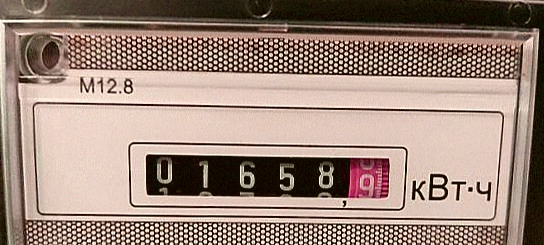0: (153, 153, 175, 185)
1: (197, 157, 211, 189)
5: (277, 160, 297, 192)
6: (237, 158, 258, 189)
8: (316, 158, 336, 191)
9: (356, 171, 375, 197)
screen: (120, 132, 412, 216)
